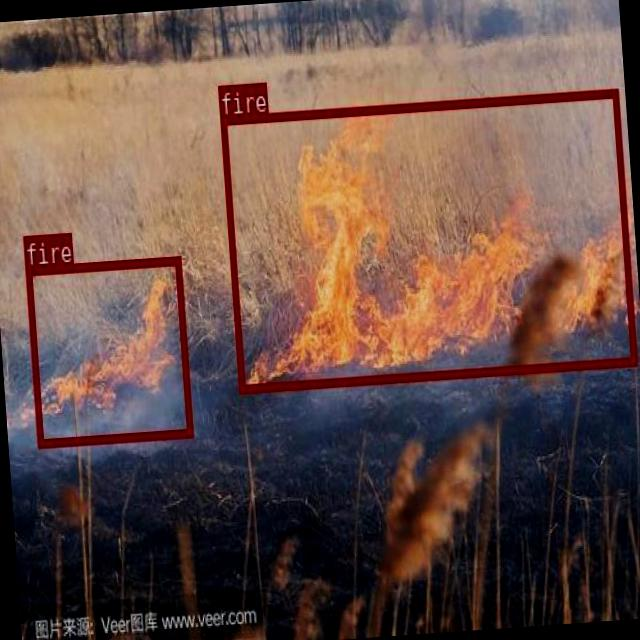fire: (219, 87, 636, 390), (23, 256, 192, 447)
